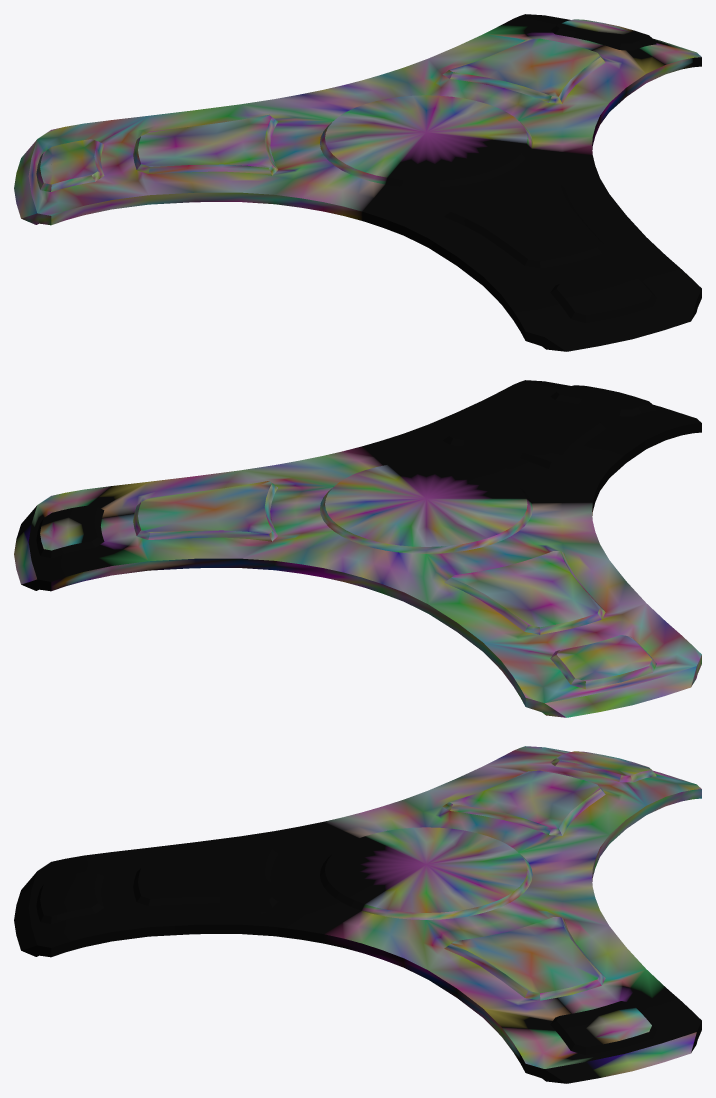
Rendered from BoostPad_Large.gltf.
The picture shows the model from 3 angles, top to bottom: view 1: azimuth 30°, elevation 25°; view 2: azimuth 150°, elevation 25°; view 3: azimuth 270°, elevation 25°; orthographic projection.
Visible parts, largest first — view 1: BoostPad_Large; view 2: BoostPad_Large; view 3: BoostPad_Large.
Boxes of the visible parts, x1,y1,x2,y2 form: BoostPad_Large: [14, 14, 701, 351]; BoostPad_Large: [14, 380, 701, 717]; BoostPad_Large: [14, 746, 701, 1083].
Bounding box in the file's own units: 1.68 × 0.1343 × 1.5.
